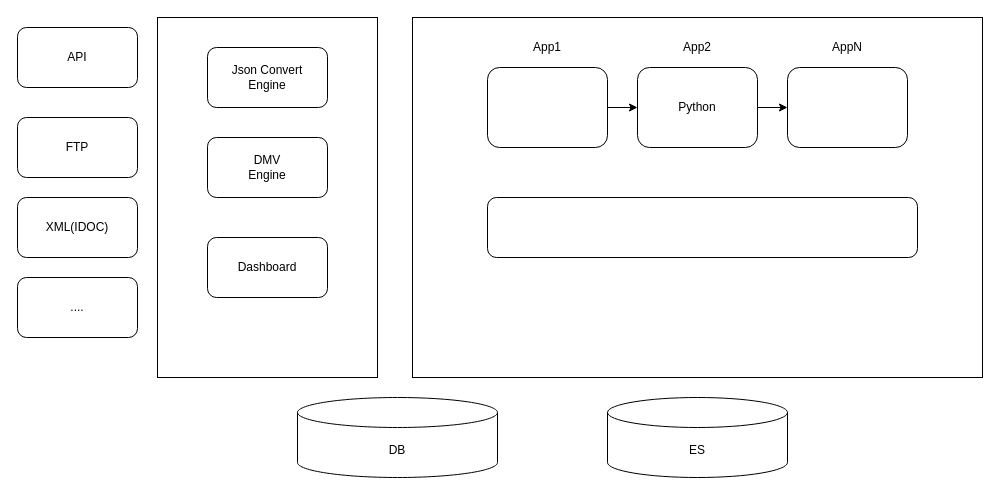
Image size: 1000x495. Some labels were removed from this diagram. Here are the shapes that lost their labels. From the top down, the centre of each, then its label:
At (547,107): "Java".
At (847,107): "Others".
At (702,227): "Open trace Engine".
